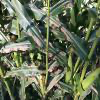Corn leaf blight: (24, 2, 92, 62), (11, 0, 47, 58), (3, 64, 64, 76), (0, 39, 39, 54)
